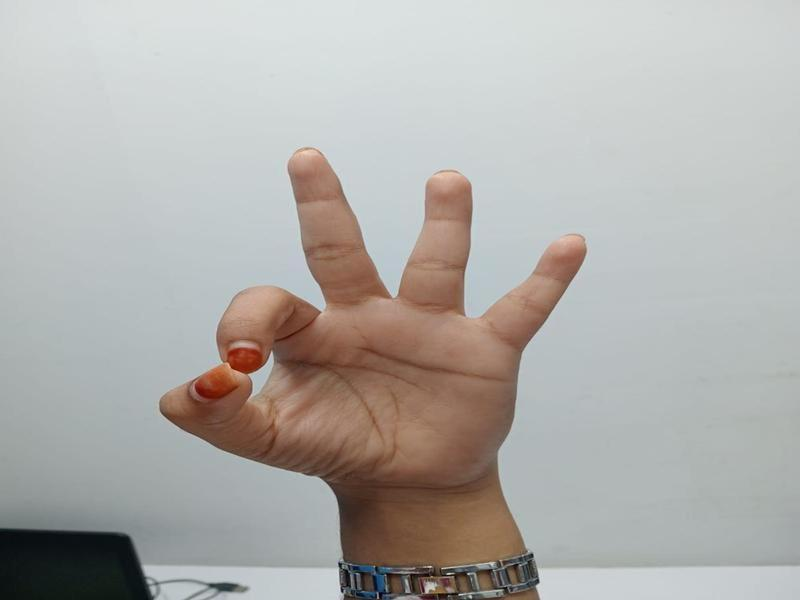UP: (151, 114, 601, 600)
